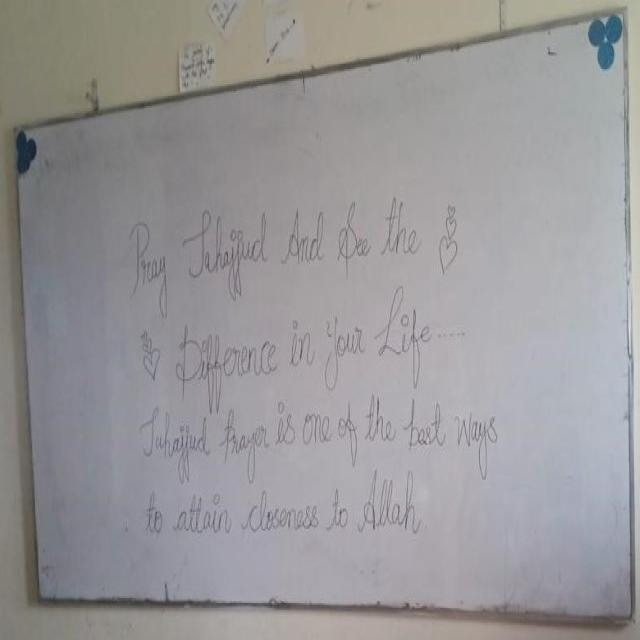White-board: (20, 6, 634, 622)
